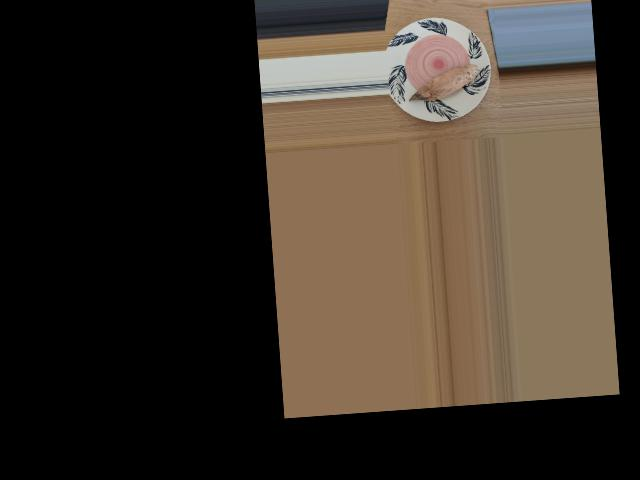sweet_potato: (414, 61, 476, 102)
